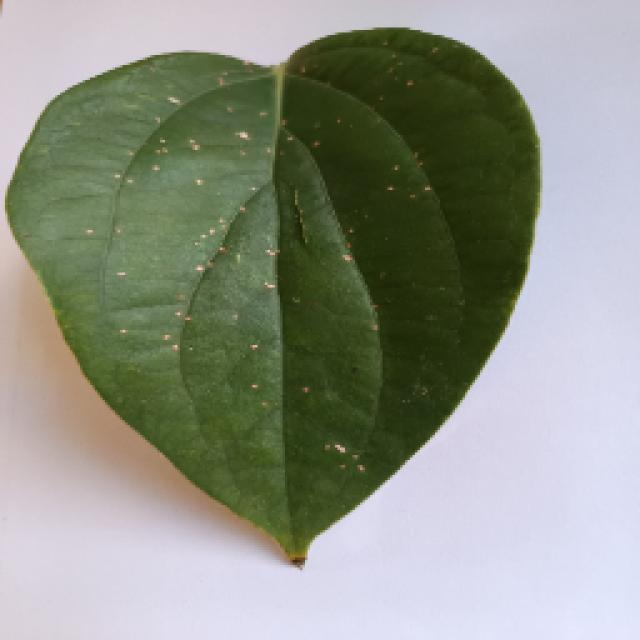pollu-disease: (5, 27, 540, 565)
